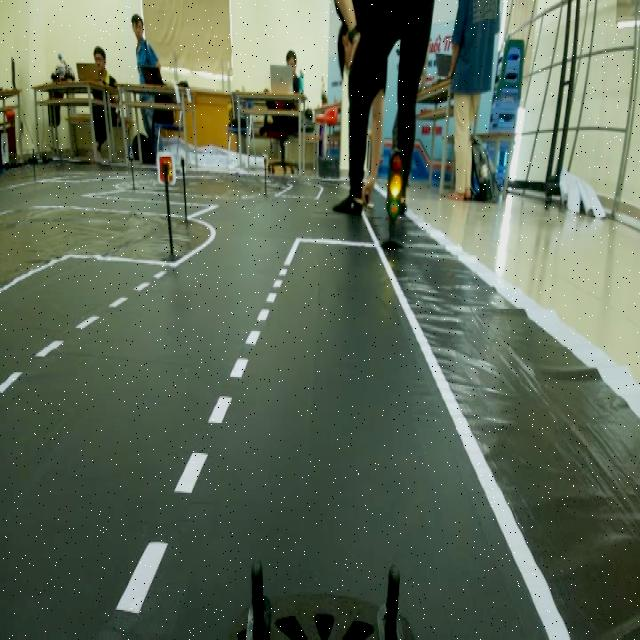trafficlight: (379, 142, 409, 260)
